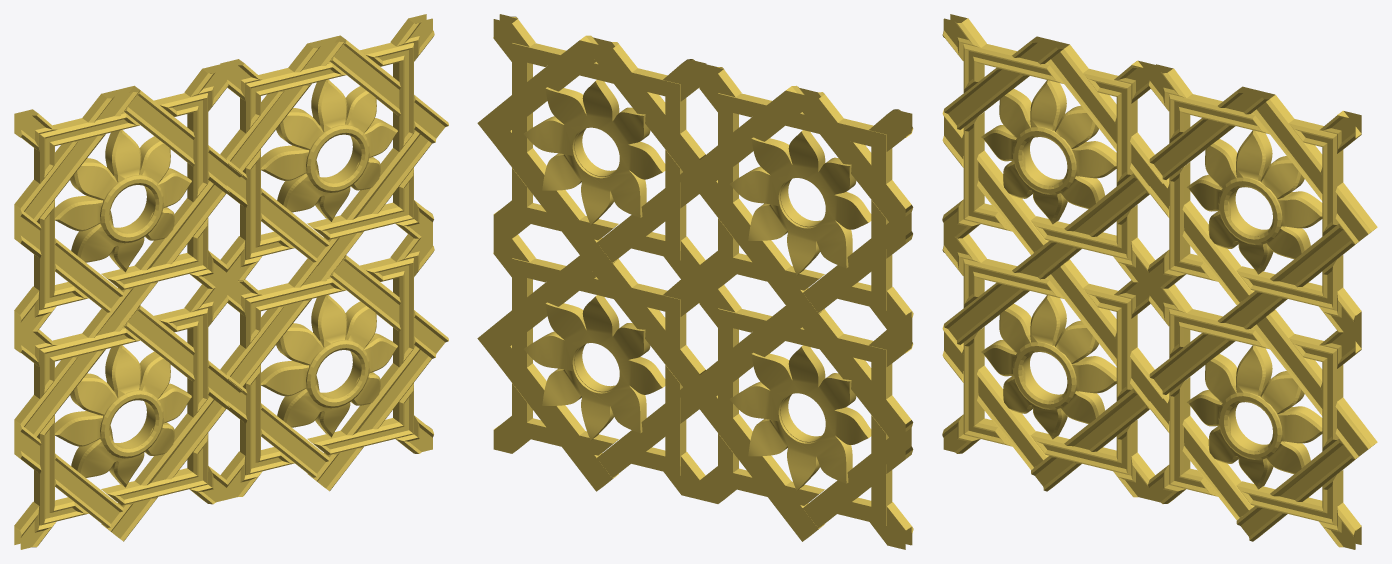
3 views of the same model, side by side, from view 1: azimuth 30°, elevation 25°; view 2: azimuth 150°, elevation 25°; view 3: azimuth 330°, elevation 25° (orthographic).
Visible parts, largest first — view 1: Line47; view 2: Line47; view 3: Line47.
Part boxes in pixels (bbox=[...]): Line47: bbox=[14, 14, 448, 549]; Line47: bbox=[477, 14, 913, 549]; Line47: bbox=[942, 14, 1377, 549].
Bounding box in the file's own units: 1550 × 1551 × 93.95.
